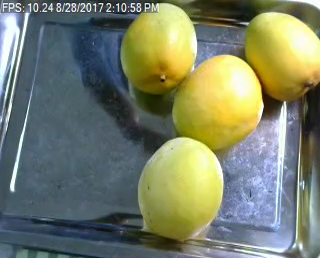Mango: (170, 56, 263, 148), (138, 139, 222, 239), (121, 4, 199, 92), (245, 11, 320, 100)
